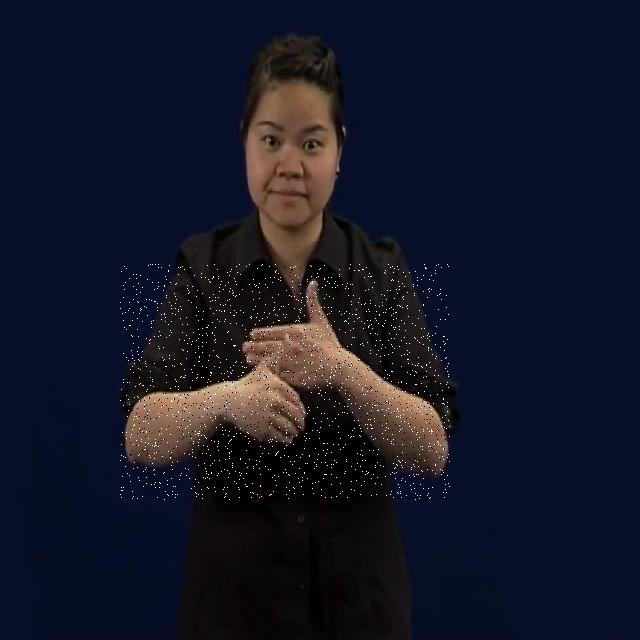bread: (120, 264, 450, 500)
